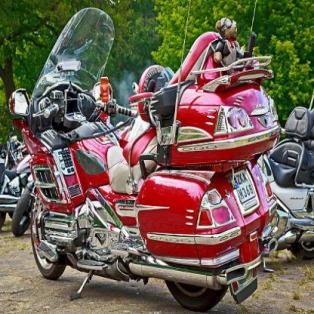Motocicleta: (3, 0, 281, 313)
